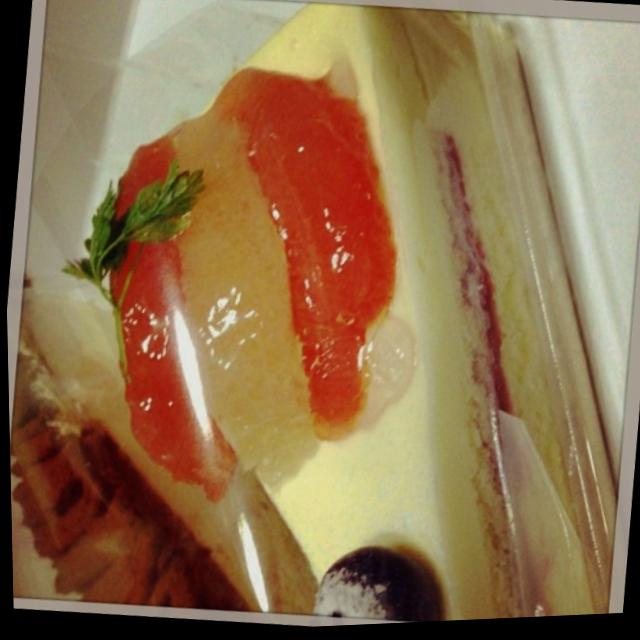蛋糕甜品: (18, 0, 640, 631)
